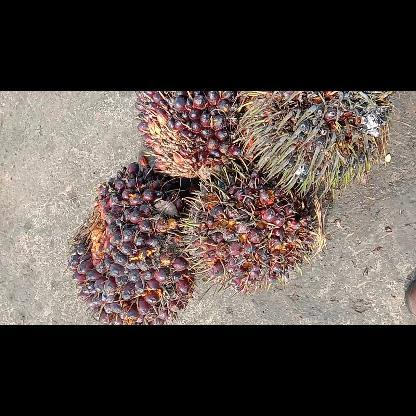Kurang masak: (189, 176, 323, 294), (137, 91, 245, 175)
TBS abnormal: (238, 90, 392, 196)
TBS masak: (68, 158, 193, 324)
